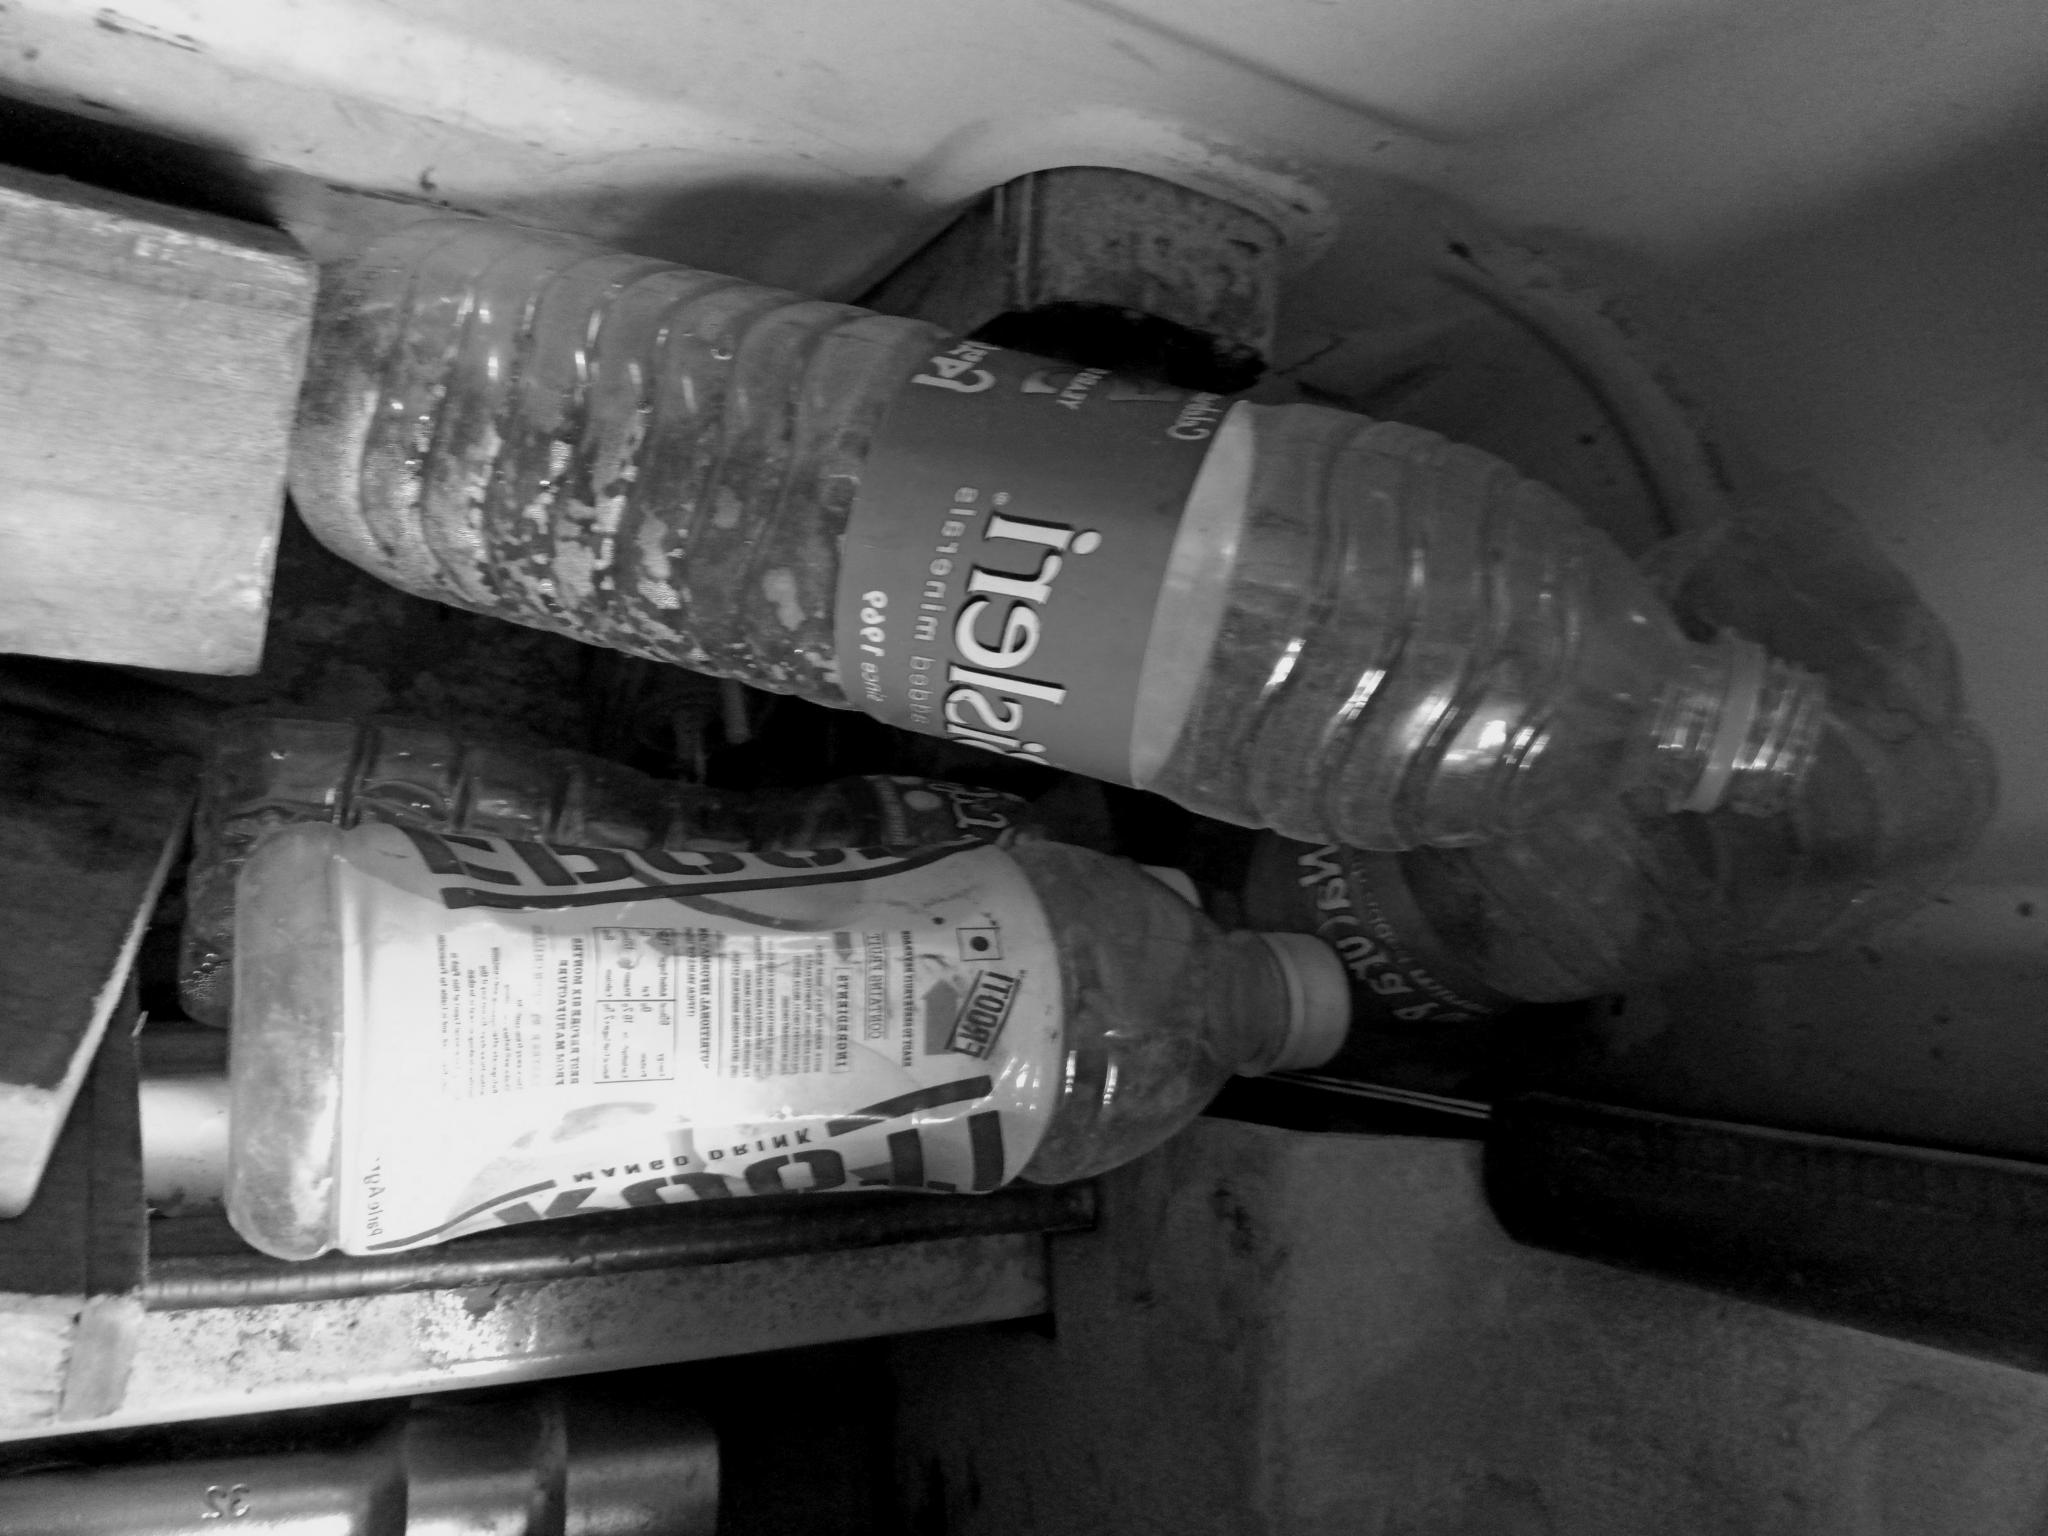bottle: (308, 194, 1834, 844), (232, 828, 1354, 1260)
